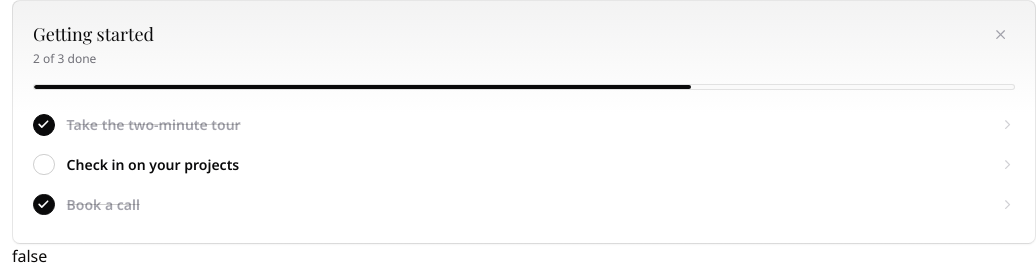
Test: GettingStartedChecklist › ticks off a click-through step and persists it, keeping the staff tour flag
Click the link "Check in on your projects" at [153, 164], box [33,154,1015,175]
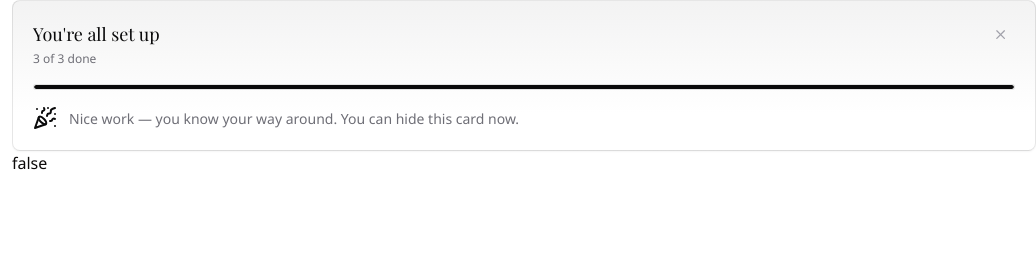
Expected: the heading "You're all set up" is shown, [33,21,160,48]
